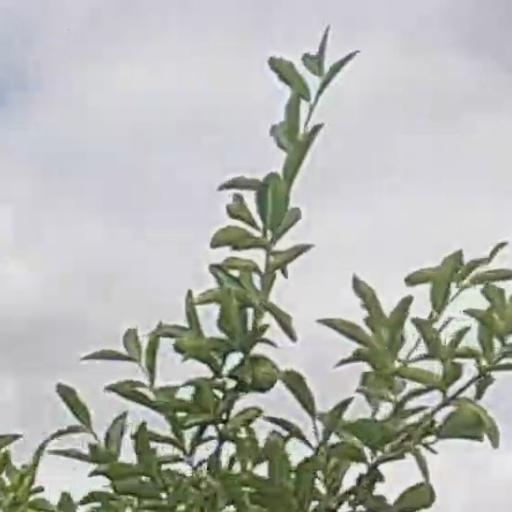acerola_verde: (250, 356, 277, 390)
